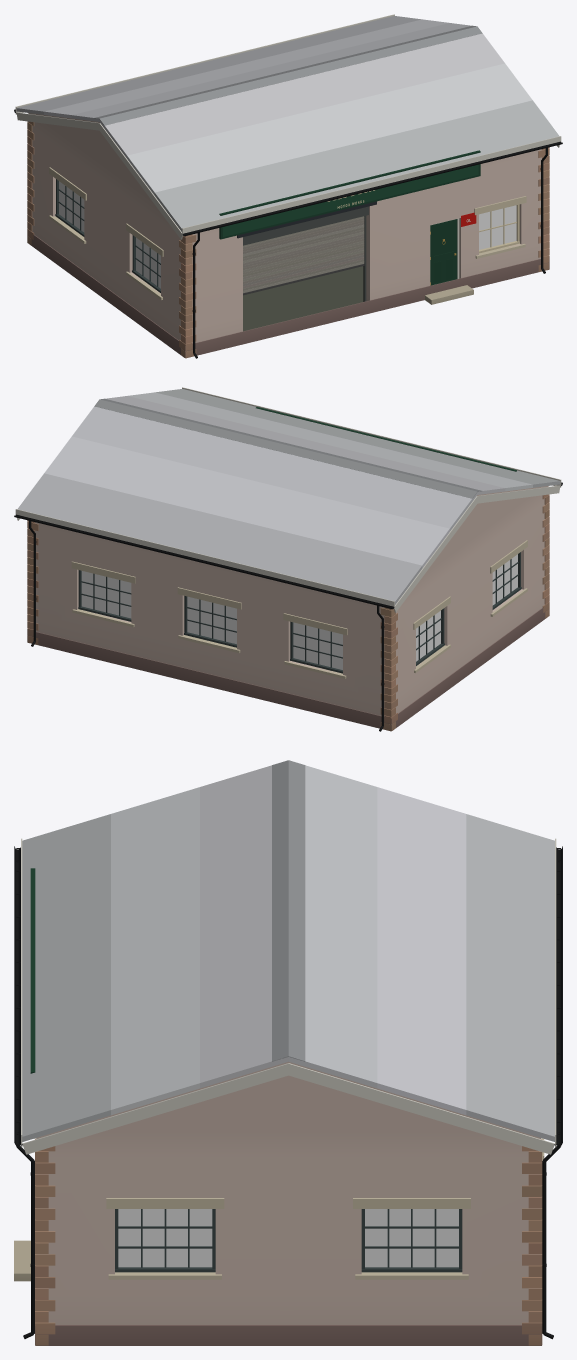
File: garage_shell_a.glb
The picture shows the model from 3 angles, top to bottom: view 1: azimuth 30°, elevation 25°; view 2: azimuth 150°, elevation 25°; view 3: azimuth 270°, elevation 25°; orthographic projection. The views are drawn at different scales.
Visible parts, largest first — view 1: body, roller_door; view 2: body; view 3: body.
Boxes of the visible parts, x1=… form: body: x1=14, y1=14, x2=562, y2=358; roller_door: x1=243, y1=206, x2=368, y2=295; body: x1=14, y1=387, x2=562, y2=731; body: x1=14, y1=760, x2=562, y2=1345.
Size of what is drawn, in the model's own units: 12.52 by 5.81 by 9.79.
